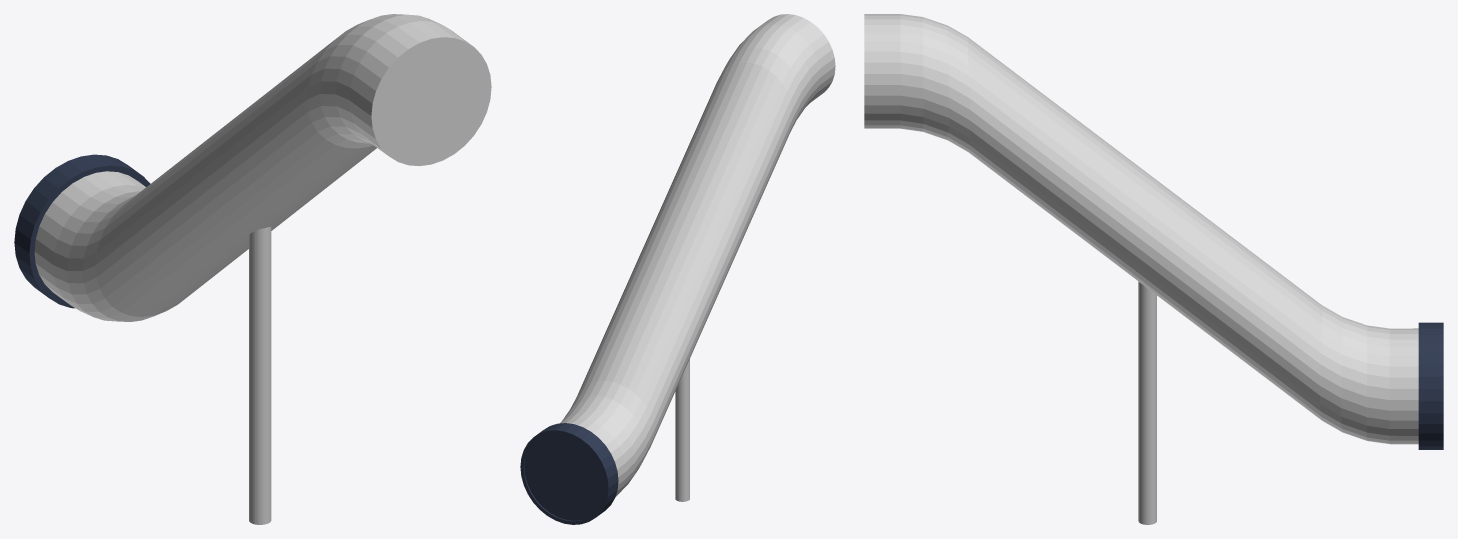
File: Pipesegment_up_X3_blank.fbx
3 views of the same model, side by side, from view 1: azimuth 30°, elevation 25°; view 2: azimuth 150°, elevation 25°; view 3: azimuth 270°, elevation 25° (orthographic). The views are drawn at different scales.
Parts seen in each view (by area): view 1: Pipe-Segment_straight, Pipe-foot; view 2: Pipe-Segment_straight, Pipe-foot; view 3: Pipe-Segment_straight, Pipe-foot.
Boxes of the visible parts, x1,y1,x2,y2 form: Pipe-Segment_straight: (14,14,491,321); Pipe-foot: (249,226,271,524); Pipe-Segment_straight: (520,14,835,524); Pipe-foot: (675,359,689,501); Pipe-Segment_straight: (864,14,1443,449); Pipe-foot: (1138,281,1156,524).
Size of the model in its own units: 110 by 478 by 500.
